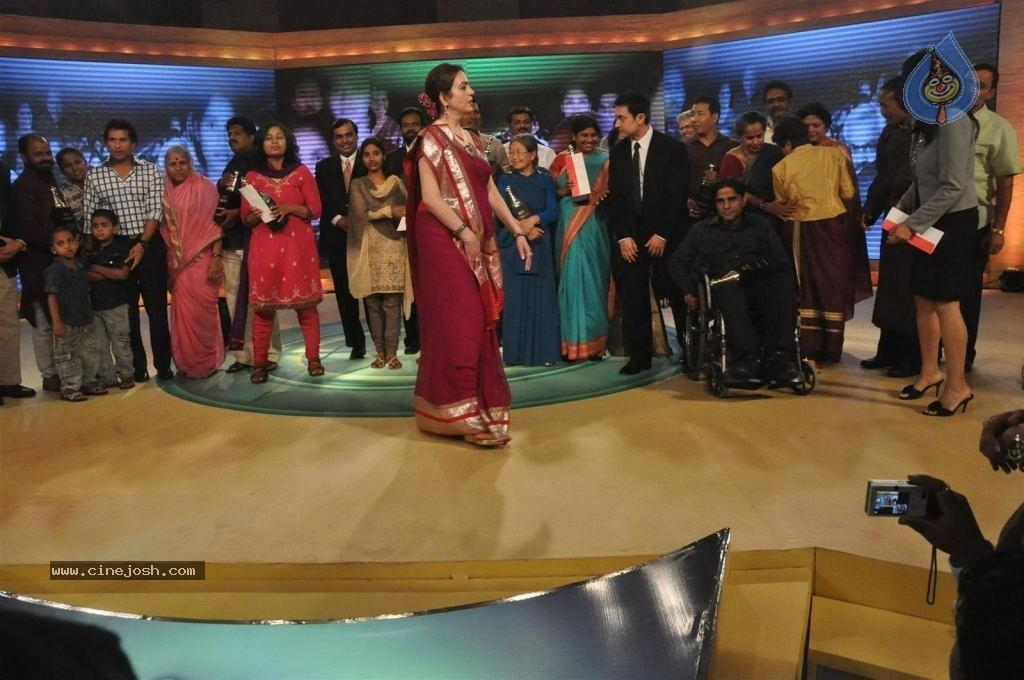face: (203, 99, 235, 169), (291, 129, 327, 189), (330, 79, 369, 122), (660, 73, 684, 117), (967, 68, 990, 106), (450, 74, 473, 112), (26, 138, 52, 171), (295, 84, 321, 116), (717, 190, 742, 219), (563, 92, 587, 122), (107, 129, 131, 158), (881, 93, 901, 125), (262, 128, 286, 154), (334, 127, 357, 153), (743, 124, 765, 151), (400, 116, 422, 143), (614, 108, 635, 136), (801, 116, 823, 142), (167, 152, 187, 180), (691, 103, 709, 134), (63, 155, 86, 179), (53, 233, 76, 257), (766, 91, 786, 118), (509, 143, 529, 170), (46, 90, 63, 119), (228, 126, 248, 150), (362, 145, 381, 170), (462, 104, 481, 128), (579, 126, 597, 151), (93, 217, 113, 239), (511, 112, 531, 134), (599, 98, 616, 123), (677, 119, 696, 140), (370, 93, 387, 116), (742, 71, 756, 95), (18, 106, 32, 129), (718, 88, 731, 107), (780, 139, 792, 158), (90, 158, 101, 172), (83, 152, 92, 164)
